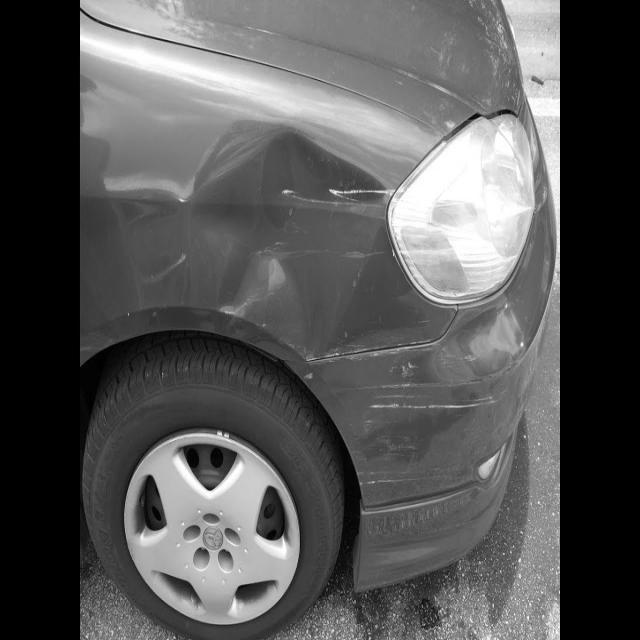dent: (175, 118, 391, 360)
scratch: (217, 285, 527, 485), (246, 239, 383, 261), (280, 186, 393, 209), (156, 254, 185, 285), (413, 315, 431, 326), (173, 194, 189, 205)
